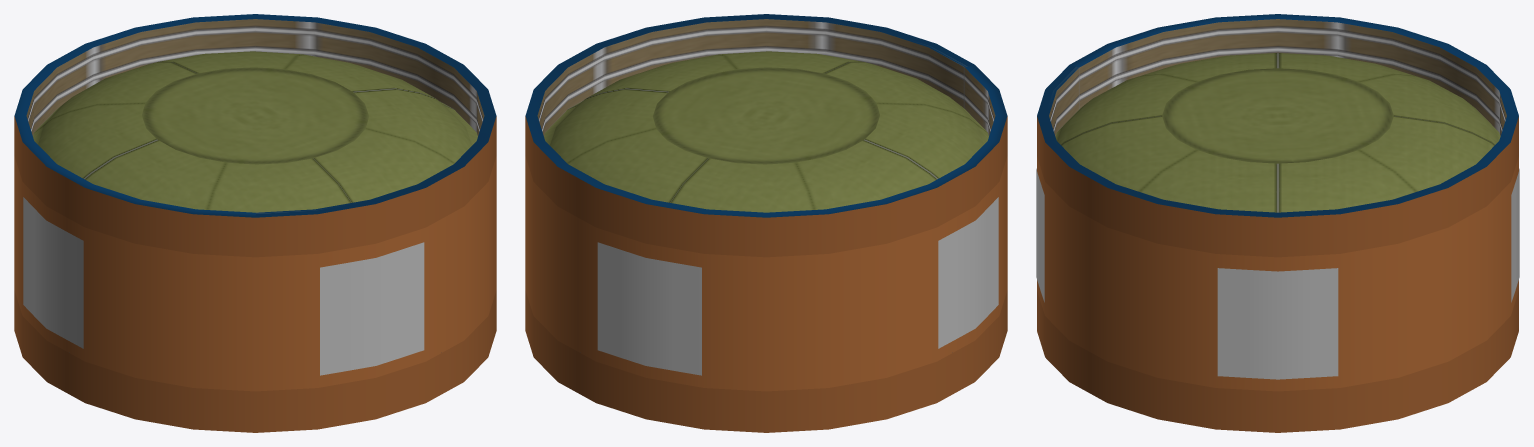
The model's file is FLM-3600.FBX.
3 views of the same model, side by side, from view 1: azimuth 30°, elevation 25°; view 2: azimuth 150°, elevation 25°; view 3: azimuth 270°, elevation 25° (orthographic).
Visible parts, largest first — view 1: EndCap001, TankBody, TankSleeve001, TankSleeve002, decalPanel001, decalPanel004, decalPanel005; view 2: EndCap001, TankBody, TankSleeve001, TankSleeve002, decalPanel003, decalPanel004; view 3: EndCap001, TankBody, TankSleeve001, TankSleeve002, decalPanel002, decalPanel003, decalPanel005, decalPanel001.
Boxes of the visible parts, x1=… form: EndCap001: x1=33, y1=51, x2=477, y2=212; TankBody: x1=14, y1=156, x2=496, y2=391; TankSleeve001: x1=14, y1=14, x2=496, y2=257; TankSleeve002: x1=14, y1=290, x2=496, y2=432; decalPanel001: x1=320, y1=242, x2=424, y2=374; decalPanel004: x1=23, y1=197, x2=83, y2=348; decalPanel005: x1=320, y1=244, x2=423, y2=375; EndCap001: x1=544, y1=51, x2=988, y2=212; TankBody: x1=525, y1=156, x2=1007, y2=391; TankSleeve001: x1=525, y1=14, x2=1007, y2=257; TankSleeve002: x1=525, y1=290, x2=1007, y2=432; decalPanel003: x1=597, y1=242, x2=701, y2=375; decalPanel004: x1=938, y1=197, x2=998, y2=348; EndCap001: x1=1055, y1=53, x2=1500, y2=212; TankBody: x1=1037, y1=157, x2=1518, y2=391; TankSleeve001: x1=1037, y1=14, x2=1518, y2=257; TankSleeve002: x1=1037, y1=291, x2=1518, y2=432; decalPanel002: x1=1217, y1=268, x2=1338, y2=379; decalPanel003: x1=1511, y1=168, x2=1519, y2=302; decalPanel005: x1=1036, y1=168, x2=1041, y2=292; decalPanel001: x1=1040, y1=182, x2=1044, y2=302.
Size of what is drawn, in the model's own units: 3.76 by 3.76 by 1.85.
